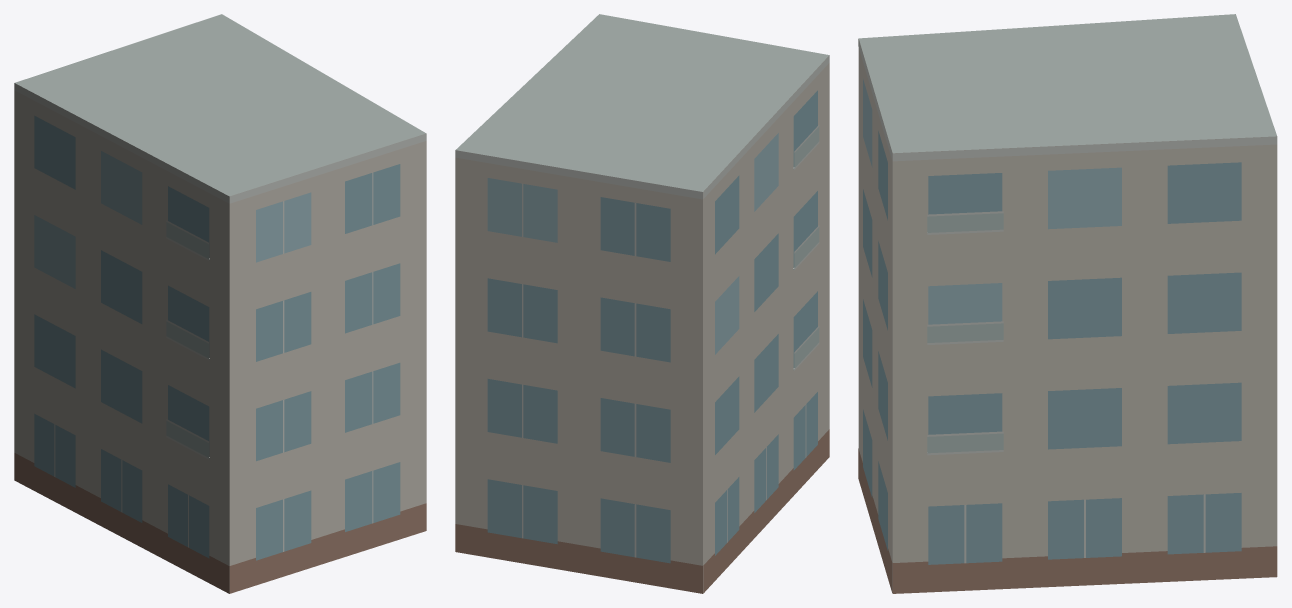
File: survey-upis-32506315.glb
The picture shows the model from 3 angles, left to right: view 1: azimuth 30°, elevation 25°; view 2: azimuth 150°, elevation 25°; view 3: azimuth 270°, elevation 25°; orthographic projection. The views are drawn at different scales.
Visible parts, largest first — view 1: survey-upis-32506315.tmp; view 2: survey-upis-32506315.tmp; view 3: survey-upis-32506315.tmp.
Part boxes in pixels (x1,y1,x2,y2): survey-upis-32506315.tmp: (14, 14, 426, 593); survey-upis-32506315.tmp: (455, 14, 829, 593); survey-upis-32506315.tmp: (858, 14, 1277, 593).
Bounding box in the file's own units: 8.95 × 13.2 × 11.38.
